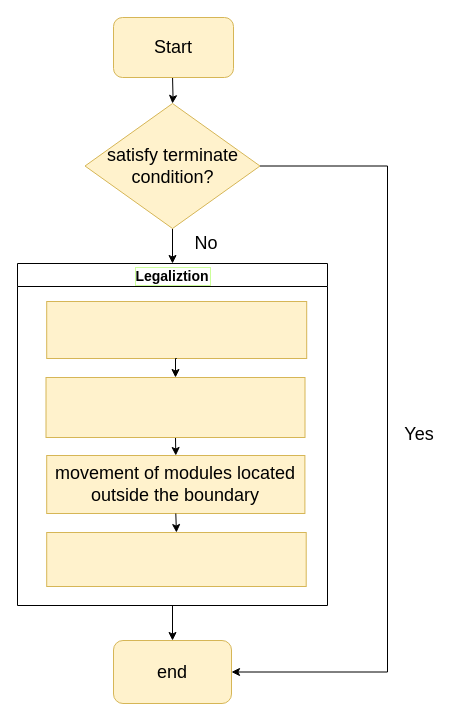
The diagram is 467 pixels wide and 721 high, and some of its shapes have lost their labels. Here are the shapes that lost their labels. From the top down, the box of each, then its label:
(46, 300, 307, 358): overlap elimination
(45, 376, 305, 438): maintenance of module spacing
(46, 532, 306, 586): movement of closetopin moldules
